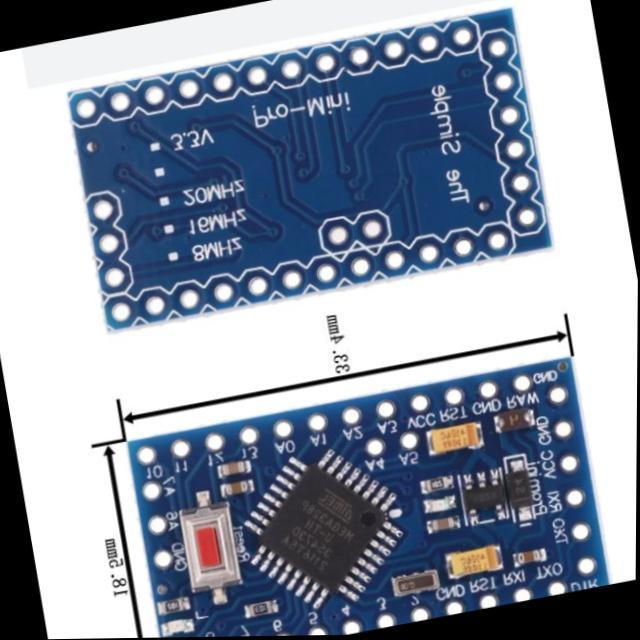Arduino-ProMini: (69, 11, 550, 330), (130, 359, 610, 637)
